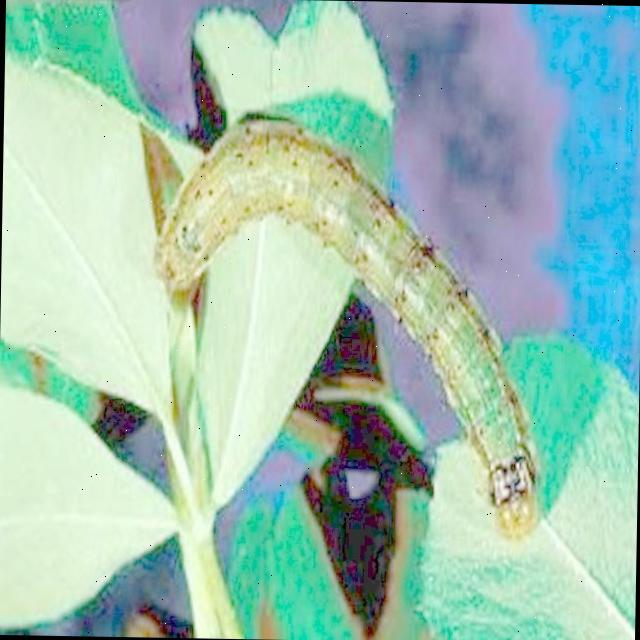worm: (146, 112, 550, 546)
